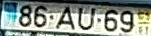6: (103, 7, 119, 32), (32, 4, 48, 28)
8: (17, 3, 32, 27)
9: (119, 9, 134, 33)
A: (53, 5, 75, 30)
U: (77, 6, 96, 31)
